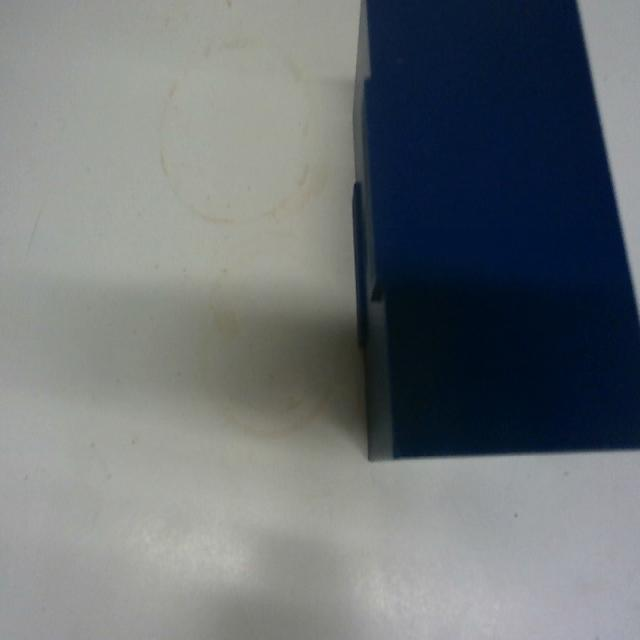Blue Cuboid: (348, 0, 639, 463)
